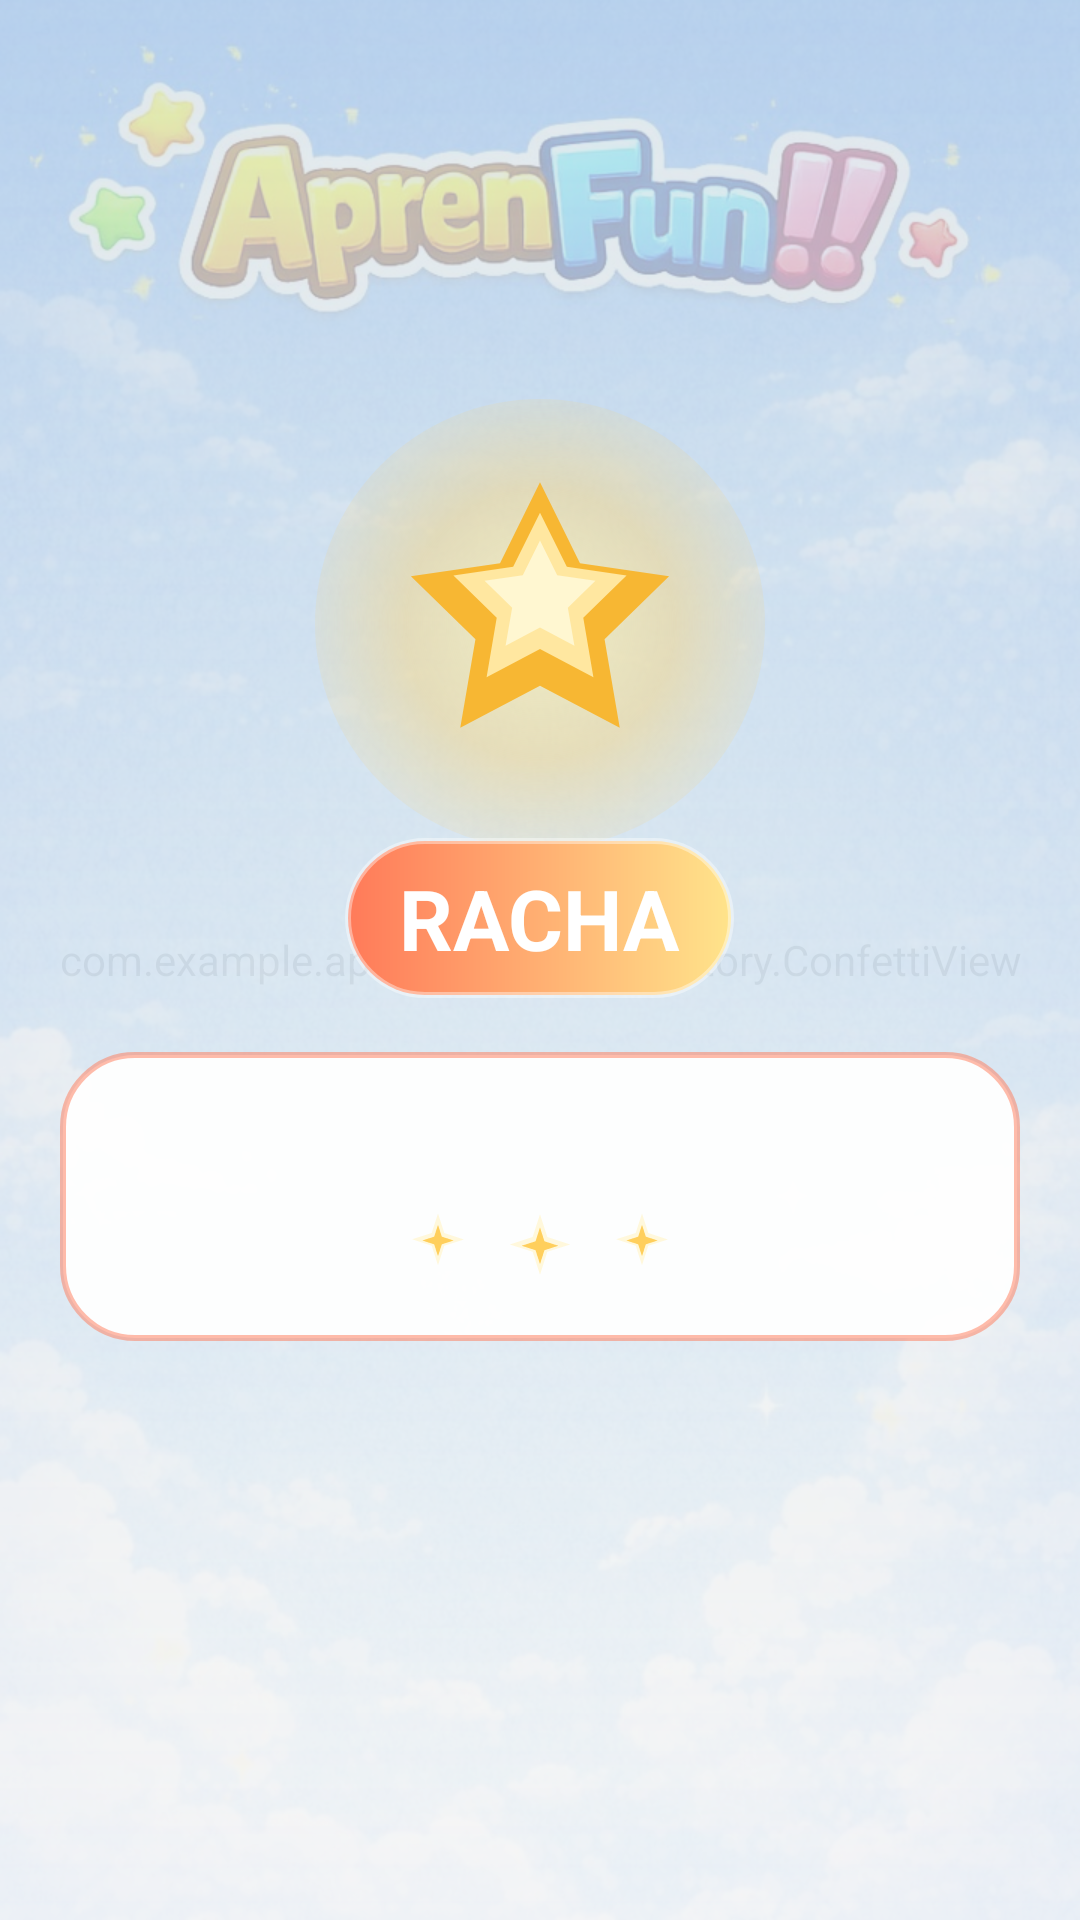

Where to tap for icons on this 1080px x 1920px app screen, as (x=x, y=y):
streak sparkle: (x=438, y=1239), (x=540, y=1244), (x=642, y=1239)
